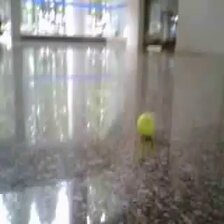tennis: (136, 112, 154, 135)
